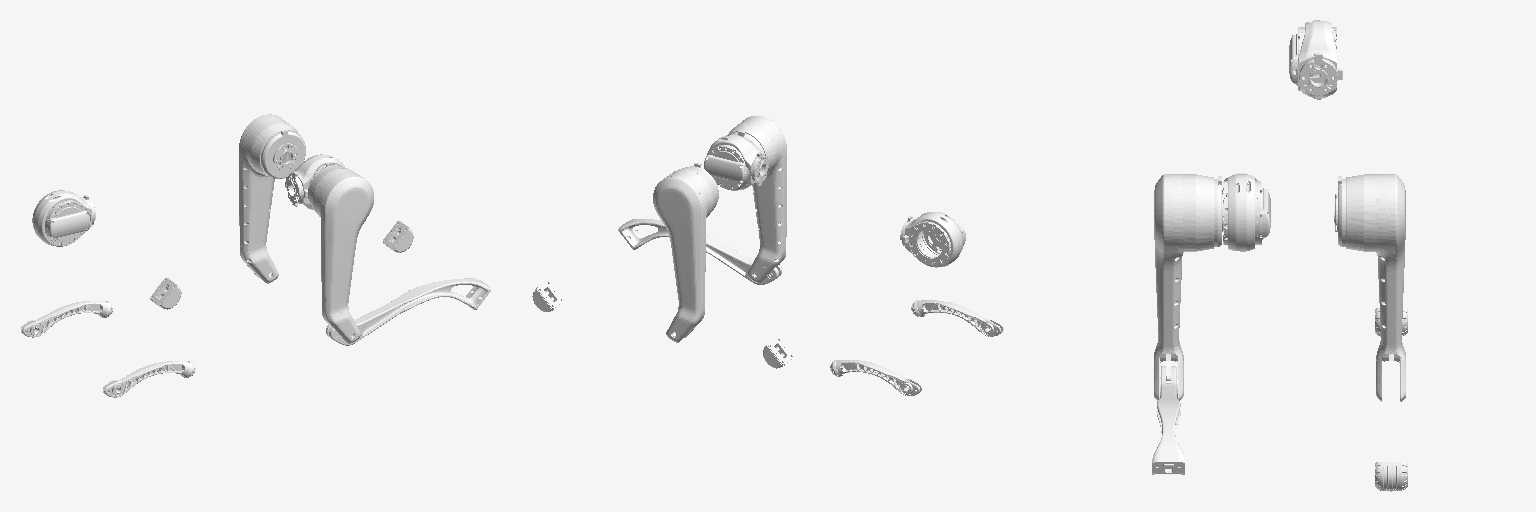
URDF robot description (y1_magicdog):
<?xml version="1.0" encoding="utf-8"?>
<!-- This URDF was automatically created by SolidWorks to URDF Exporter! Originally created by Stephen Brawner (brawner@gmail.com) 
     Commit Version: 1.6.0-4-g7f85cfe  Build Version: 1.6.7995.38578
     For more information, please see http://wiki.ros.org/sw_urdf_exporter -->
<robot
  name="y1_magicdog">
  <link name="base">
    <inertial>
      <origin
        xyz="0.0135 0.000335 0.00854"
        rpy="0 0 0" />
      <mass
        value="28.9" />
      <inertia
        ixx="0.336"
        ixy="0.000157"
        ixz="-0.0554"
        iyy="1.2"
        iyz="7.17E-05"
        izz="1.37" />
    </inertial>
    <visual>
      <origin
        xyz="0 0 0"
        rpy="0 0 0" />
      <geometry>
        <mesh
          filename="./y1_magicdog/base.STL" />
      </geometry>
      <material
        name="">
        <color
          rgba="1 1 1 1" />
      </material>
    </visual>
    <collision>
      <origin rpy="0 0 0" xyz="0 0 0"/>
      <geometry>
        <box size="0.327 0.194 0.114"/>
      </geometry>
    </collision>
  </link>
  <link name="FL_hip">
    <inertial>
      <origin
        xyz="-0.0438 0.000457 -0.000153"
        rpy="0 0 0" />
      <mass
        value="2.75" />
      <inertia
        ixx="0.0049"
        ixy="-7.63E-05"
        ixz="1.47E-05"
        iyy="0.013"
        iyz="-1.4E-05"
        izz="0.0118" />
    </inertial>
    <visual>
      <origin
        xyz="0 0 0"
        rpy="0 0 0" />
      <geometry>
        <mesh
          filename="./y1_magicdog/FL_hip.STL" />
      </geometry>
      <material
        name="">
        <color
          rgba="1 1 1 1" />
      </material>
    </visual>
    <collision>
      <origin
        xyz="0 0 0"
        rpy="0 0 0" />
      <geometry>
        <mesh
          filename="./y1_magicdog/FL_hip.STL" />
      </geometry>
    </collision>
  </link>
  <joint name="FL_hip_joint" type="revolute">
    <origin
      xyz="0.32944 0.07 0"
      rpy="0 0 0" />
    <parent
      link="base" />
    <child
      link="FL_hip" />
    <axis
      xyz="1 0 0" />
    <limit
      lower="-1.05"
      upper="1.05"
      effort="280"
      velocity="20" />
  </joint>
  <link name="FL_thigh">
    <inertial>
      <origin
        xyz="-0.0049 -0.0499 -0.0499"
        rpy="0 0 0" />
      <mass
        value="5.58" />
      <inertia
        ixx="0.0818"
        ixy="0.00133"
        ixz="-0.00369"
        iyy="0.0746"
        iyz="0.0138"
        izz="0.0189" />
    </inertial>
    <visual>
      <origin
        xyz="0 0 0"
        rpy="0 0 0" />
      <geometry>
        <mesh
          filename="./y1_magicdog/FL_thigh.STL" />
      </geometry>
      <material
        name="">
        <color
          rgba="1 1 1 1" />
      </material>
    </visual>
    <collision>
      <origin
        xyz="0 0 0"
        rpy="0 0 0" />
      <geometry>
        <mesh
          filename="./y1_magicdog/FL_thigh.STL" />
      </geometry>
    </collision>
  </link>
  <joint name="FL_thigh_joint" type="revolute">
    <origin
      xyz="0 0.1315 0"
      rpy="0 0 0" />
    <parent
      link="FL_hip" />
    <child
      link="FL_thigh" />
    <axis
      xyz="0 1 0" />
    <limit
      lower="-1.31"
      upper="4.45"
      effort="280"
      velocity="20" />
  </joint>
  <link name="FL_calf">
    <inertial>
      <origin
        xyz="0.0095 8.24E-06 -0.198"
        rpy="0 0 0" />
      <mass
        value="0.987" />
      <inertia
        ixx="0.0246"
        ixy="5.96E-08"
        ixz="0.000112"
        iyy="0.025"
        iyz="-1.99E-06"
        izz="0.000735" />
    </inertial>
    <visual>
      <origin
        xyz="0 0 0"
        rpy="0 0 0" />
      <geometry>
        <mesh
          filename="./y1_magicdog/FL_calf.STL" />
      </geometry>
      <material
        name="">
        <color
          rgba="1 1 1 1" />
      </material>
    </visual>
    <collision>
      <origin
        xyz="0 0 0"
        rpy="0 0 0" />
      <geometry>
        <mesh
          filename="./y1_magicdog/FL_calf.STL" />
      </geometry>
    </collision>
  </link>
  <joint name="FL_calf_joint" type="revolute">
    <origin
      xyz="0 0 -0.35"
      rpy="0 0 0" />
    <parent
      link="FL_thigh" />
    <child
      link="FL_calf" />
    <axis
      xyz="0 1 0" />
    <limit
      lower="-2.78"
      upper="-0.43"
      effort="350"
      velocity="14" />
  </joint>
  <link name="FL_foot">
    <inertial>
      <origin
        xyz="0 0 0"
        rpy="0 0 0" />
      <mass
        value="0.001" />
      <inertia
        ixx="1.0E-08"
        ixy="0.0"
        ixz="0.0"
        iyy="1.0E-08"
        iyz="0.0"
        izz="1.0E-08" />
    </inertial>
    <visual>
      <origin
        xyz="0 0 0"
        rpy="0 0 0" />
      <geometry>
        <mesh
          filename="./y1_magicdog/FL_foot.STL" />
      </geometry>
      <material
        name="">
        <color
          rgba="1 1 1 1" />
      </material>
    </visual>
    <collision>
      <origin
        xyz="0 0 0"
        rpy="0 0 0" />
      <geometry>
        <mesh
          filename="./y1_magicdog/FL_foot.STL" />
      </geometry>
    </collision>
  </link>
  <joint name="FL_foot_joint" type="fixed" dont_collapse="true">
    <origin
      xyz="0 0 -0.375"
      rpy="0 0 0" />
    <parent
      link="FL_calf" />
    <child
      link="FL_foot" />
    <axis
      xyz="0 0 0" />
  </joint>
  <link name="FR_hip">
    <inertial>
      <origin
        xyz="-0.0438 -0.000457 -0.000153"
        rpy="0 0 0" />
      <mass
        value="2.75" />
      <inertia
        ixx="0.0049"
        ixy="7.63E-05"
        ixz="1.47E-05"
        iyy="0.013"
        iyz="1.4E-05"
        izz="0.0118" />
    </inertial>
    <visual>
      <origin
        xyz="0 0 0"
        rpy="0 0 0" />
      <geometry>
        <mesh
          filename="./y1_magicdog/FR_hip.STL" />
      </geometry>
      <material
        name="">
        <color
          rgba="1 1 1 1" />
      </material>
    </visual>
    <collision>
      <origin
        xyz="0 0 0"
        rpy="0 0 0" />
      <geometry>
        <mesh
          filename="./y1_magicdog/FR_hip.STL" />
      </geometry>
    </collision>
  </link>
  <joint name="FR_hip_joint" type="revolute">
    <origin
      xyz="0.32944 -0.07 0"
      rpy="0 0 0" />
    <parent
      link="base" />
    <child
      link="FR_hip" />
    <axis
      xyz="1 0 0" />
    <limit
      lower="-1.05"
      upper="1.05"
      effort="280"
      velocity="20" />
  </joint>
  <link name="FR_thigh">
    <inertial>
      <origin
        xyz="-0.0049 0.0499 -0.0499"
        rpy="0 0 0" />
      <mass
        value="5.58" />
      <inertia
        ixx="0.0818"
        ixy="-0.00133"
        ixz="-0.00369"
        iyy="0.0746"
        iyz="-0.0138"
        izz="0.0189" />
    </inertial>
    <visual>
      <origin
        xyz="0 0 0"
        rpy="0 0 0" />
      <geometry>
        <mesh
          filename="./y1_magicdog/FR_thigh.STL" />
      </geometry>
      <material
        name="">
        <color
          rgba="1 1 1 1" />
      </material>
    </visual>
    <collision>
      <origin
        xyz="0 0 0"
        rpy="0 0 0" />
      <geometry>
        <mesh
          filename="./y1_magicdog/FR_thigh.STL" />
      </geometry>
    </collision>
  </link>
  <joint name="FR_thigh_joint" type="revolute">
    <origin
      xyz="0 -0.1315 0"
      rpy="0 0 0" />
    <parent
      link="FR_hip" />
    <child
      link="FR_thigh" />
    <axis
      xyz="0 1 0" />
    <limit
      lower="-1.31"
      upper="4.45"
      effort="280"
      velocity="20" />
  </joint>
  <link  name="FR_calf">
    <inertial>
      <origin
        xyz="0.0095 -8.24E-06 -0.198"
        rpy="0 0 0" />
      <mass
        value="0.987" />
      <inertia
        ixx="0.0246"
        ixy="-5.96E-08"
        ixz="0.000112"
        iyy="0.025"
        iyz="1.99E-06"
        izz="0.000735" />
    </inertial>
    <visual>
      <origin
        xyz="0 0 0"
        rpy="0 0 0" />
      <geometry>
        <mesh
          filename="./y1_magicdog/FR_calf.STL" />
      </geometry>
      <material
        name="">
        <color
          rgba="1 1 1 1" />
      </material>
    </visual>
    <collision>
      <origin
        xyz="0 0 0"
        rpy="0 0 0" />
      <geometry>
        <mesh
          filename="./y1_magicdog/FR_calf.STL" />
      </geometry>
    </collision>
  </link>
  <joint name="FR_calf_joint" type="revolute">
    <origin
      xyz="0 0 -0.35"
      rpy="0 0 0" />
    <parent
      link="FR_thigh" />
    <child
      link="FR_calf" />
    <axis
      xyz="0 1 0" />
    <limit
      lower="-2.78"
      upper="-0.43"
      effort="350"
      velocity="14" />
  </joint>
  <link name="FR_foot">
    <inertial>
      <origin
        xyz="0 0 0"
        rpy="0 0 0" />
      <mass
        value="0.001" />
      <inertia
        ixx="1.0E-08"
        ixy="0.0"
        ixz="0.0"
        iyy="1.0E-08"
        iyz="0.0"
        izz="1.0E-08" />
    </inertial>
    <visual>
      <origin
        xyz="0 0 0"
        rpy="0 0 0" />
      <geometry>
        <mesh
          filename="./y1_magicdog/FR_foot.STL" />
      </geometry>
      <material
        name="">
        <color
          rgba="1 1 1 1" />
      </material>
    </visual>
    <collision>
      <origin
        xyz="0 0 0"
        rpy="0 0 0" />
      <geometry>
        <mesh
          filename="./y1_magicdog/FR_foot.STL" />
      </geometry>
    </collision>
  </link>
  <joint name="FR_foot_joint" type="fixed" dont_collapse="true">
    <origin
      xyz="0 0 -0.375"
      rpy="0 0 0" />
    <parent
      link="FR_calf" />
    <child
      link="FR_foot" />
    <axis
      xyz="0 0 0" />
  </joint>
  <link name="RL_hip">
    <inertial>
      <origin
        xyz="0.0438 0.000457 -0.000153"
        rpy="0 0 0" />
      <mass
        value="2.75" />
      <inertia
        ixx="0.0049"
        ixy="7.63E-05"
        ixz="-1.47E-05"
        iyy="0.013"
        iyz="-1.4E-05"
        izz="0.0118" />
    </inertial>
    <visual>
      <origin
        xyz="0 0 0"
        rpy="0 0 0" />
      <geometry>
        <mesh
          filename="./y1_magicdog/RL_hip.STL" />
      </geometry>
      <material
        name="">
        <color
          rgba="1 1 1 1" />
      </material>
    </visual>
    <collision>
      <origin
        xyz="0 0 0"
        rpy="0 0 0" />
      <geometry>
        <mesh
          filename="./y1_magicdog/RL_hip.STL" />
      </geometry>
    </collision>
  </link>
  <joint name="RL_hip_joint" type="revolute">
    <origin
      xyz="-0.32996 0.07 0"
      rpy="0 0 0" />
    <parent
      link="base" />
    <child
      link="RL_hip" />
    <axis
      xyz="1 0 0" />
    <limit
      lower="-1.05"
      upper="1.05"
      effort="280"
      velocity="20" />
  </joint>
  <link name="RL_thigh">
    <inertial>
      <origin
        xyz="0.0049 -0.0499 -0.0499"
        rpy="0 0 0" />
      <mass
        value="5.58" />
      <inertia
        ixx="0.0818"
        ixy="-0.00133"
        ixz="0.00369"
        iyy="0.0746"
        iyz="0.0138"
        izz="0.0189" />
    </inertial>
    <visual>
      <origin
        xyz="0 0 0"
        rpy="0 0 0" />
      <geometry>
        <mesh
          filename="./y1_magicdog/RL_thigh.STL" />
      </geometry>
      <material
        name="">
        <color
          rgba="1 1 1 1" />
      </material>
    </visual>
    <collision>
      <origin
        xyz="0 0 0"
        rpy="0 0 0" />
      <geometry>
        <mesh
          filename="./y1_magicdog/RL_thigh.STL" />
      </geometry>
    </collision>
  </link>
  <joint name="RL_thigh_joint"
    type="revolute">
    <origin
      xyz="0 0.1315 0"
      rpy="0 0 0" />
    <parent
      link="RL_hip" />
    <child
      link="RL_thigh" />
    <axis
      xyz="0 1 0" />
    <limit
      lower="-1.31"
      upper="4.45"
      effort="280"
      velocity="20" />
  </joint>
  <link name="RL_calf">
    <inertial>
      <origin
        xyz="-0.0095 8.24E-06 -0.198"
        rpy="0 0 0" />
      <mass
        value="0.987" />
      <inertia
        ixx="0.0246"
        ixy="-5.96E-08"
        ixz="-0.000112"
        iyy="0.025"
        iyz="-1.99E-06"
        izz="0.000735" />
    </inertial>
    <visual>
      <origin
        xyz="0 0 0"
        rpy="0 0 0" />
      <geometry>
        <mesh
          filename="./y1_magicdog/RL_calf.STL" />
      </geometry>
      <material
        name="">
        <color
          rgba="1 1 1 1" />
      </material>
    </visual>
    <collision>
      <origin
        xyz="0 0 0"
        rpy="0 0 0" />
      <geometry>
        <mesh
          filename="./y1_magicdog/RL_calf.STL" />
      </geometry>
    </collision>
  </link>
  <joint name="RL_calf_joint" type="revolute">
    <origin
      xyz="0 0 -0.35"
      rpy="0 0 0" />
    <parent
      link="RL_thigh" />
    <child
      link="RL_calf" />
    <axis
      xyz="0 1 0" />
    <limit
      lower="-2.78"
      upper="-0.43"
      effort="350"
      velocity="14" />
  </joint>
  <link name="RL_foot">
    <inertial>
      <origin
        xyz="0 0 0"
        rpy="0 0 0" />
      <mass
        value="0.001" />
      <inertia
        ixx="1.0E-08"
        ixy="0.0"
        ixz="0.0"
        iyy="1.0E-08"
        iyz="0.0"
        izz="1.0E-08" />
    </inertial>
    <visual>
      <origin
        xyz="0 0 0"
        rpy="0 0 0" />
      <geometry>
        <mesh
          filename="./y1_magicdog/RL_foot.STL" />
      </geometry>
      <material
        name="">
        <color
          rgba="1 1 1 1" />
      </material>
    </visual>
    <collision>
      <origin
        xyz="0 0 0"
        rpy="0 0 0" />
      <geometry>
        <mesh
          filename="./y1_magicdog/RL_foot.STL" />
      </geometry>
    </collision>
  </link>
  <joint name="RL_foot_joint" type="fixed" dont_collapse="true">
    <origin
      xyz="0 0 -0.375"
      rpy="0 0 0" />
    <parent
      link="RL_calf" />
    <child
      link="RL_foot" />
    <axis
      xyz="0 0 0" />
  </joint>
  <link name="RR_hip">
    <inertial>
      <origin
        xyz="0.0438 -0.000457 -0.000153"
        rpy="0 0 0" />
      <mass
        value="2.75" />
      <inertia
        ixx="0.0049"
        ixy="-7.63E-05"
        ixz="-1.47E-05"
        iyy="0.013"
        iyz="1.4E-05"
        izz="0.0118" />
    </inertial>
    <visual>
      <origin
        xyz="0 0 0"
        rpy="0 0 0" />
      <geometry>
        <mesh
          filename="./y1_magicdog/RR_hip.STL" />
      </geometry>
      <material
        name="">
        <color
          rgba="1 1 1 1" />
      </material>
    </visual>
    <collision>
      <origin
        xyz="0 0 0"
        rpy="0 0 0" />
      <geometry>
        <mesh
          filename="./y1_magicdog/RR_hip.STL" />
      </geometry>
    </collision>
  </link>
  <joint name="RR_hip_joint"
    type="revolute">
    <origin
      xyz="-0.32996 -0.07 0"
      rpy="0 0 0" />
    <parent
      link="base" />
    <child
      link="RR_hip" />
    <axis
      xyz="1 0 0" />
    <limit
      lower="-1.05"
      upper="1.05"
      effort="280"
      velocity="20" />
  </joint>
  <link name="RR_thigh">
    <inertial>
      <origin
        xyz="0.0049 0.0499 -0.0499"
        rpy="0 0 0" />
      <mass
        value="5.58" />
      <inertia
        ixx="0.0818"
        ixy="0.00133"
        ixz="0.00369"
        iyy="0.0746"
        iyz="-0.0138"
        izz="0.0189" />
    </inertial>
    <visual>
      <origin
        xyz="0 0 0"
        rpy="0 0 0" />
      <geometry>
        <mesh
          filename="./y1_magicdog/RR_thigh.STL" />
      </geometry>
      <material
        name="">
        <color
          rgba="1 1 1 1" />
      </material>
    </visual>
    <collision>
      <origin
        xyz="0 0 0"
        rpy="0 0 0" />
      <geometry>
        <mesh
          filename="./y1_magicdog/RR_thigh.STL" />
      </geometry>
    </collision>
  </link>
  <joint name="RR_thigh_joint"
    type="revolute">
    <origin
      xyz="0 -0.1315 0"
      rpy="0 0 0" />
    <parent
      link="RR_hip" />
    <child
      link="RR_thigh" />
    <axis
      xyz="0 1 0" />
    <limit
      lower="-1.31"
      upper="4.45"
      effort="280"
      velocity="20" />
  </joint>
  <link name="RR_calf">
    <inertial>
      <origin
        xyz="-0.0095 -8.24E-06 -0.198"
        rpy="0 0 0" />
      <mass
        value="0.987" />
      <inertia
        ixx="0.0246"
        ixy="5.96E-08"
        ixz="-0.000112"
        iyy="0.025"
        iyz="1.99E-06"
        izz="0.000735" />
    </inertial>
    <visual>
      <origin
        xyz="0 0 0"
        rpy="0 0 0" />
      <geometry>
        <mesh
          filename="./y1_magicdog/RR_calf.STL" />
      </geometry>
      <material
        name="">
        <color
          rgba="1 1 1 1" />
      </material>
    </visual>
    <collision>
      <origin
        xyz="0 0 0"
        rpy="0 0 0" />
      <geometry>
        <mesh
          filename="./y1_magicdog/RR_calf.STL" />
      </geometry>
    </collision>
  </link>
  <joint name="RR_calf_joint" type="revolute">
    <origin
      xyz="0 0 -0.35"
      rpy="0 0 0" />
    <parent
      link="RR_thigh" />
    <child
      link="RR_calf" />
    <axis
      xyz="0 1 0" />
    <limit
      lower="-2.78"
      upper="-0.43"
      effort="350"
      velocity="14" />
  </joint>
  <link name="RR_foot">
    <inertial>
      <origin
        xyz="0 0 0"
        rpy="0 0 0" />
      <mass
        value="0.001" />
      <inertia
        ixx="1.0E-08"
        ixy="0.0"
        ixz="0.0"
        iyy="1.0E-08"
        iyz="0.0"
        izz="1.0E-08" />
    </inertial>
    <visual>
      <origin
        xyz="0 0 0"
        rpy="0 0 0" />
      <geometry>
        <mesh
          filename="./y1_magicdog/RR_foot.STL" />
      </geometry>
      <material
        name="">
        <color
          rgba="1 1 1 1" />
      </material>
    </visual>
    <collision>
      <origin
        xyz="0 0 0"
        rpy="0 0 0" />
      <geometry>
        <mesh
          filename="./y1_magicdog/RR_foot.STL" />
      </geometry>
    </collision>
  </link>
  <joint name="RR_foot_joint" type="fixed" dont_collapse="true">
    <origin
      xyz="0 0 -0.375"
      rpy="0 0 0" />
    <parent
      link="RR_calf" />
    <child
      link="RR_foot" />
    <axis
      xyz="0 0 0" />
  </joint>
</robot>

--- Render facts (derived) ---
Views: 3 orthographic renders of the robot side by side, from view 1: azimuth 30°, elevation 25°; view 2: azimuth 150°, elevation 25°; view 3: azimuth 270°, elevation 25°.
Model y1_magicdog with 17 links and 16 joints (12 revolute, 4 fixed), rooted at base, posed all joints at 0 but 4 set to mid-range because 0 is outside their limits (FL_calf_joint = -1.6, FR_calf_joint = -1.6, RL_calf_joint = -1.6, RR_calf_joint = -1.6).
Visible links, largest first — view 1: FR_thigh, FL_thigh, RL_hip, FR_calf, RL_calf, RR_calf, FR_hip, FL_foot, RL_foot; view 2: FL_thigh, FR_thigh, RL_hip, FR_hip, FR_calf, RR_calf, RL_calf, RL_foot, FL_foot; view 3: FL_thigh, FR_thigh, RL_hip, FR_hip, FR_calf, FL_foot.
Boxes of the visible links, x1,y1,x2,y2 form: FR_thigh: [308, 162, 373, 343]; FL_thigh: [239, 114, 305, 283]; RL_hip: [32, 190, 95, 246]; FR_calf: [326, 278, 490, 345]; RL_calf: [21, 301, 112, 337]; RR_calf: [103, 361, 195, 397]; FR_hip: [285, 154, 344, 209]; FL_foot: [383, 221, 413, 252]; RL_foot: [150, 278, 181, 309]; FL_thigh: [653, 163, 718, 342]; FR_thigh: [728, 116, 786, 282]; RL_hip: [900, 212, 965, 267]; FR_hip: [704, 135, 768, 190]; FR_calf: [618, 219, 781, 284]; RR_calf: [911, 300, 1003, 336]; RL_calf: [830, 360, 921, 395]; RL_foot: [763, 337, 793, 368]; FL_foot: [532, 281, 563, 311]; FL_thigh: [1334, 174, 1405, 401]; FR_thigh: [1154, 174, 1222, 400]; RL_hip: [1289, 20, 1342, 99]; FR_hip: [1222, 173, 1270, 251]; FR_calf: [1152, 366, 1184, 474]; FL_foot: [1375, 462, 1407, 491].
Bounding box of the posed robot: 1.14 × 0.463 × 0.4534 m (x, y, z).
Meshes: 17 distinct files referenced, 9 mesh visuals loaded (9 binary STL); not drawn: 8 (reference not matched to a file when rendering).
